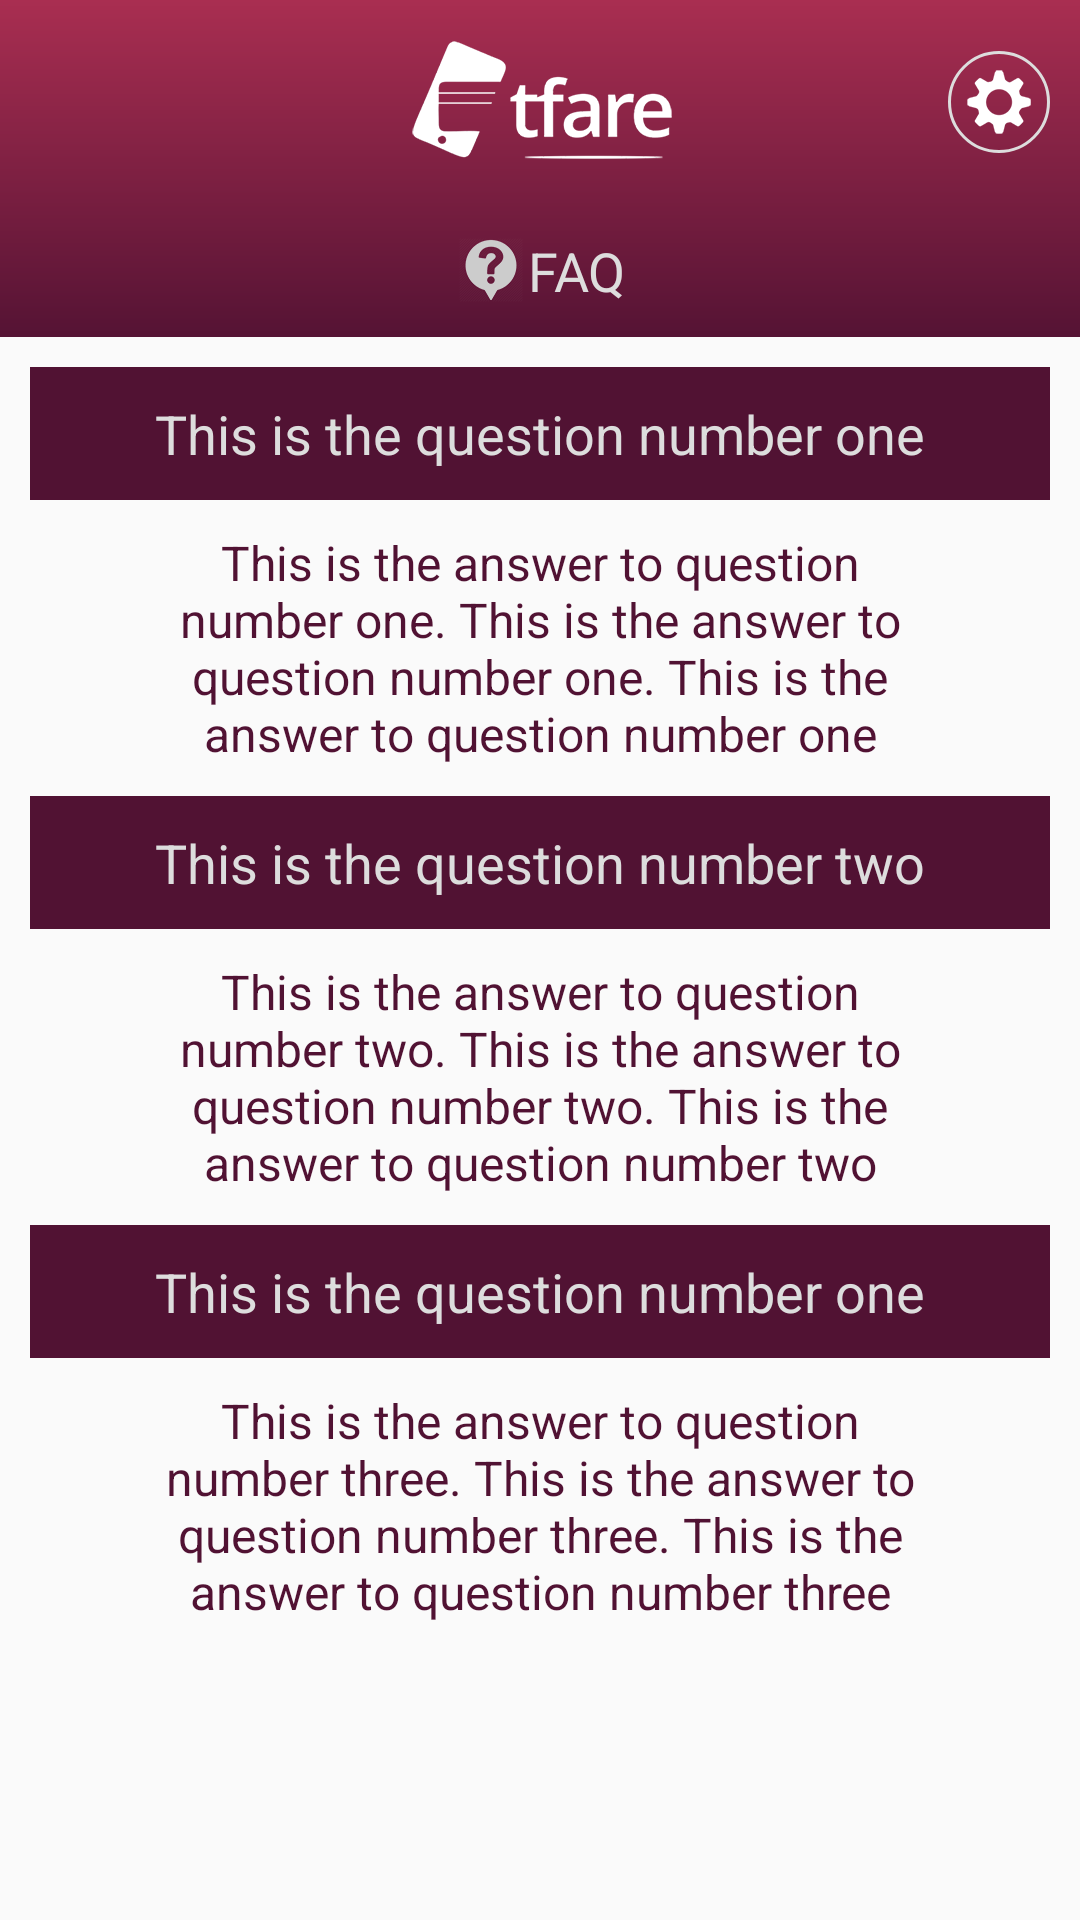

Screen size 1080w x 1920h. Icon name, then its box in pixels as (x1, y1, x2, y2):
settings: (948, 51, 1050, 153)
